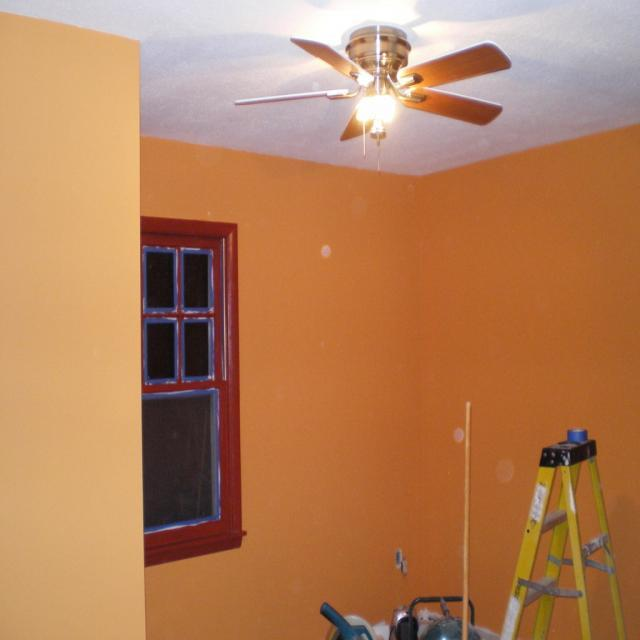fan_off: (232, 27, 516, 144)
